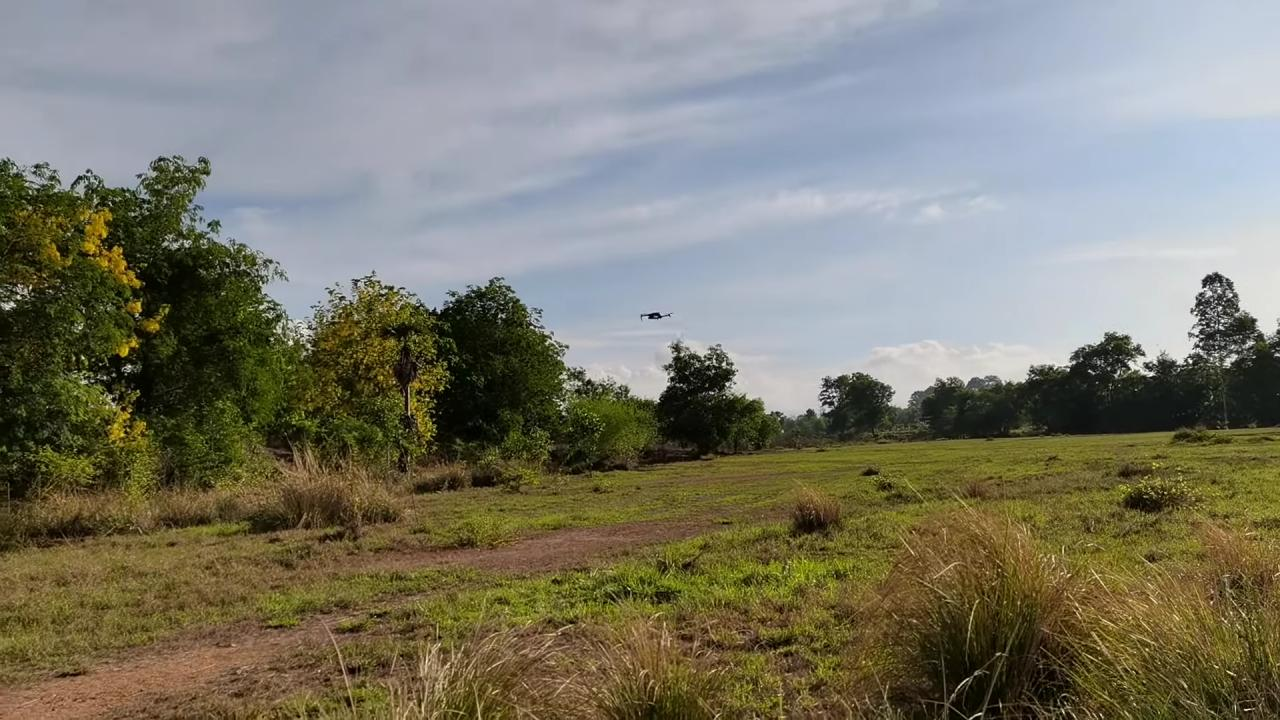Drone: (633, 305, 680, 327)
